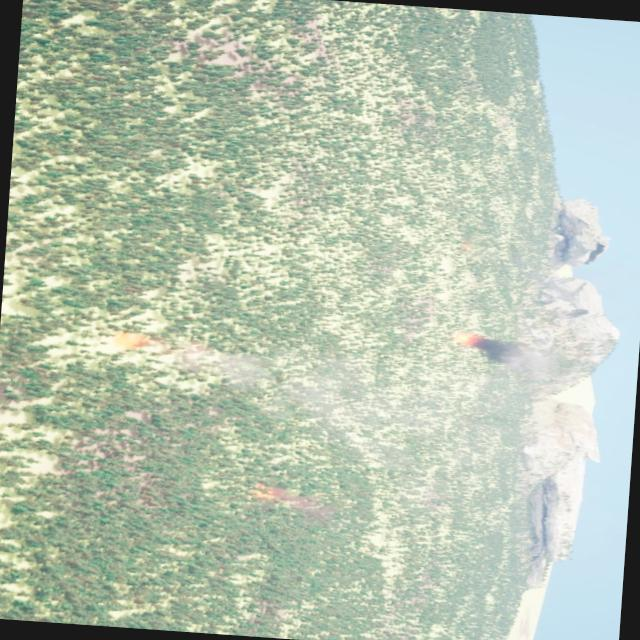fire: (115, 331, 152, 350), (254, 484, 276, 501), (459, 332, 480, 347)
smoke: (168, 340, 429, 463), (474, 337, 556, 378), (279, 488, 338, 521)
